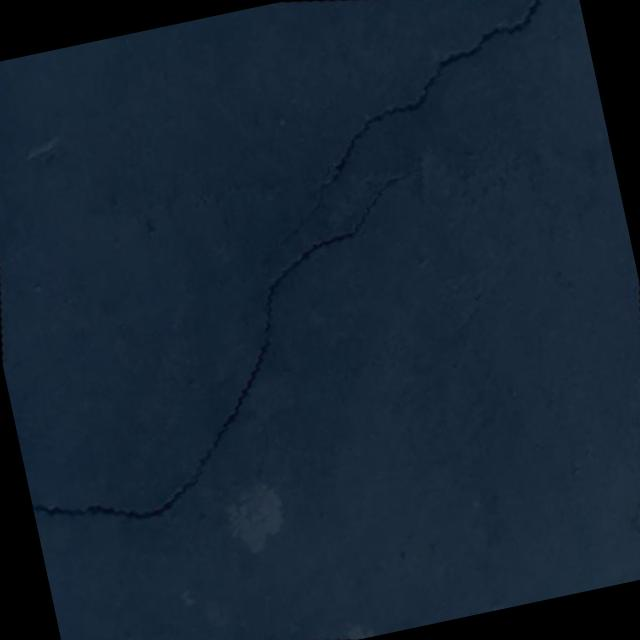crack: (0, 64, 503, 591), (228, 0, 590, 291)
